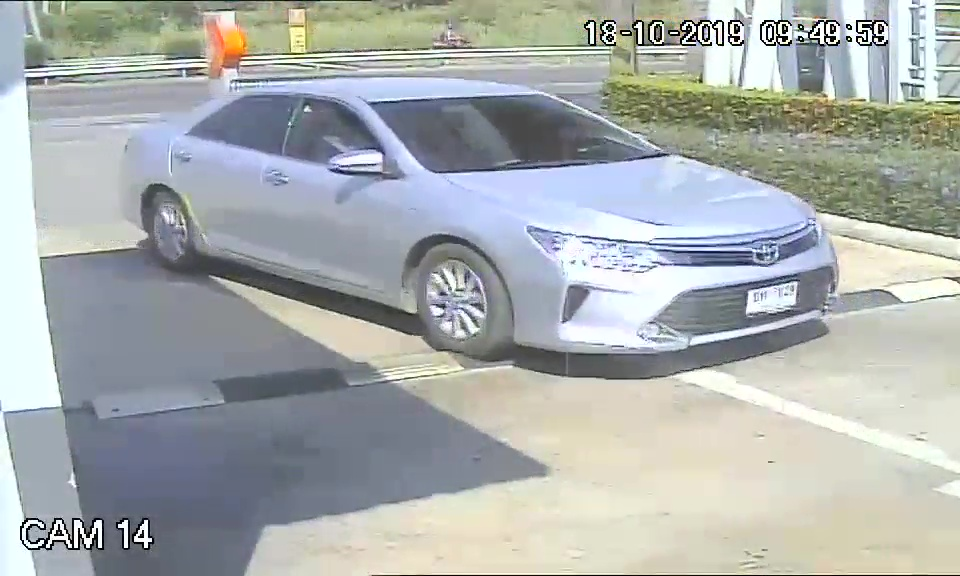sedan: (109, 69, 850, 365)
